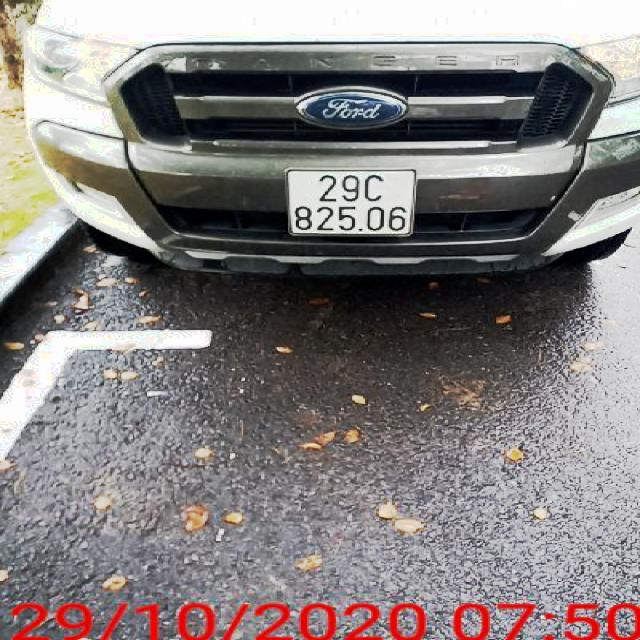license_plate: (294, 172, 414, 236)
